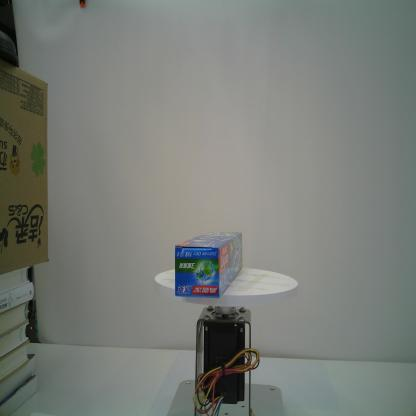Personal Hygiene: (174, 228, 244, 298)
